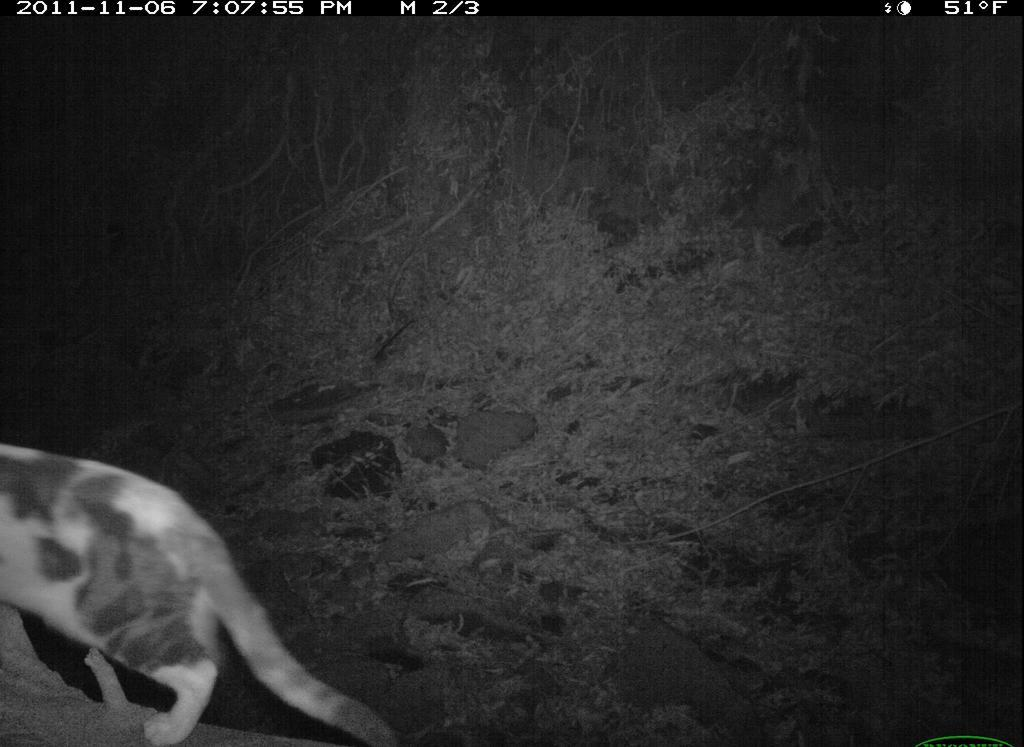cat: (2, 424, 413, 747)
